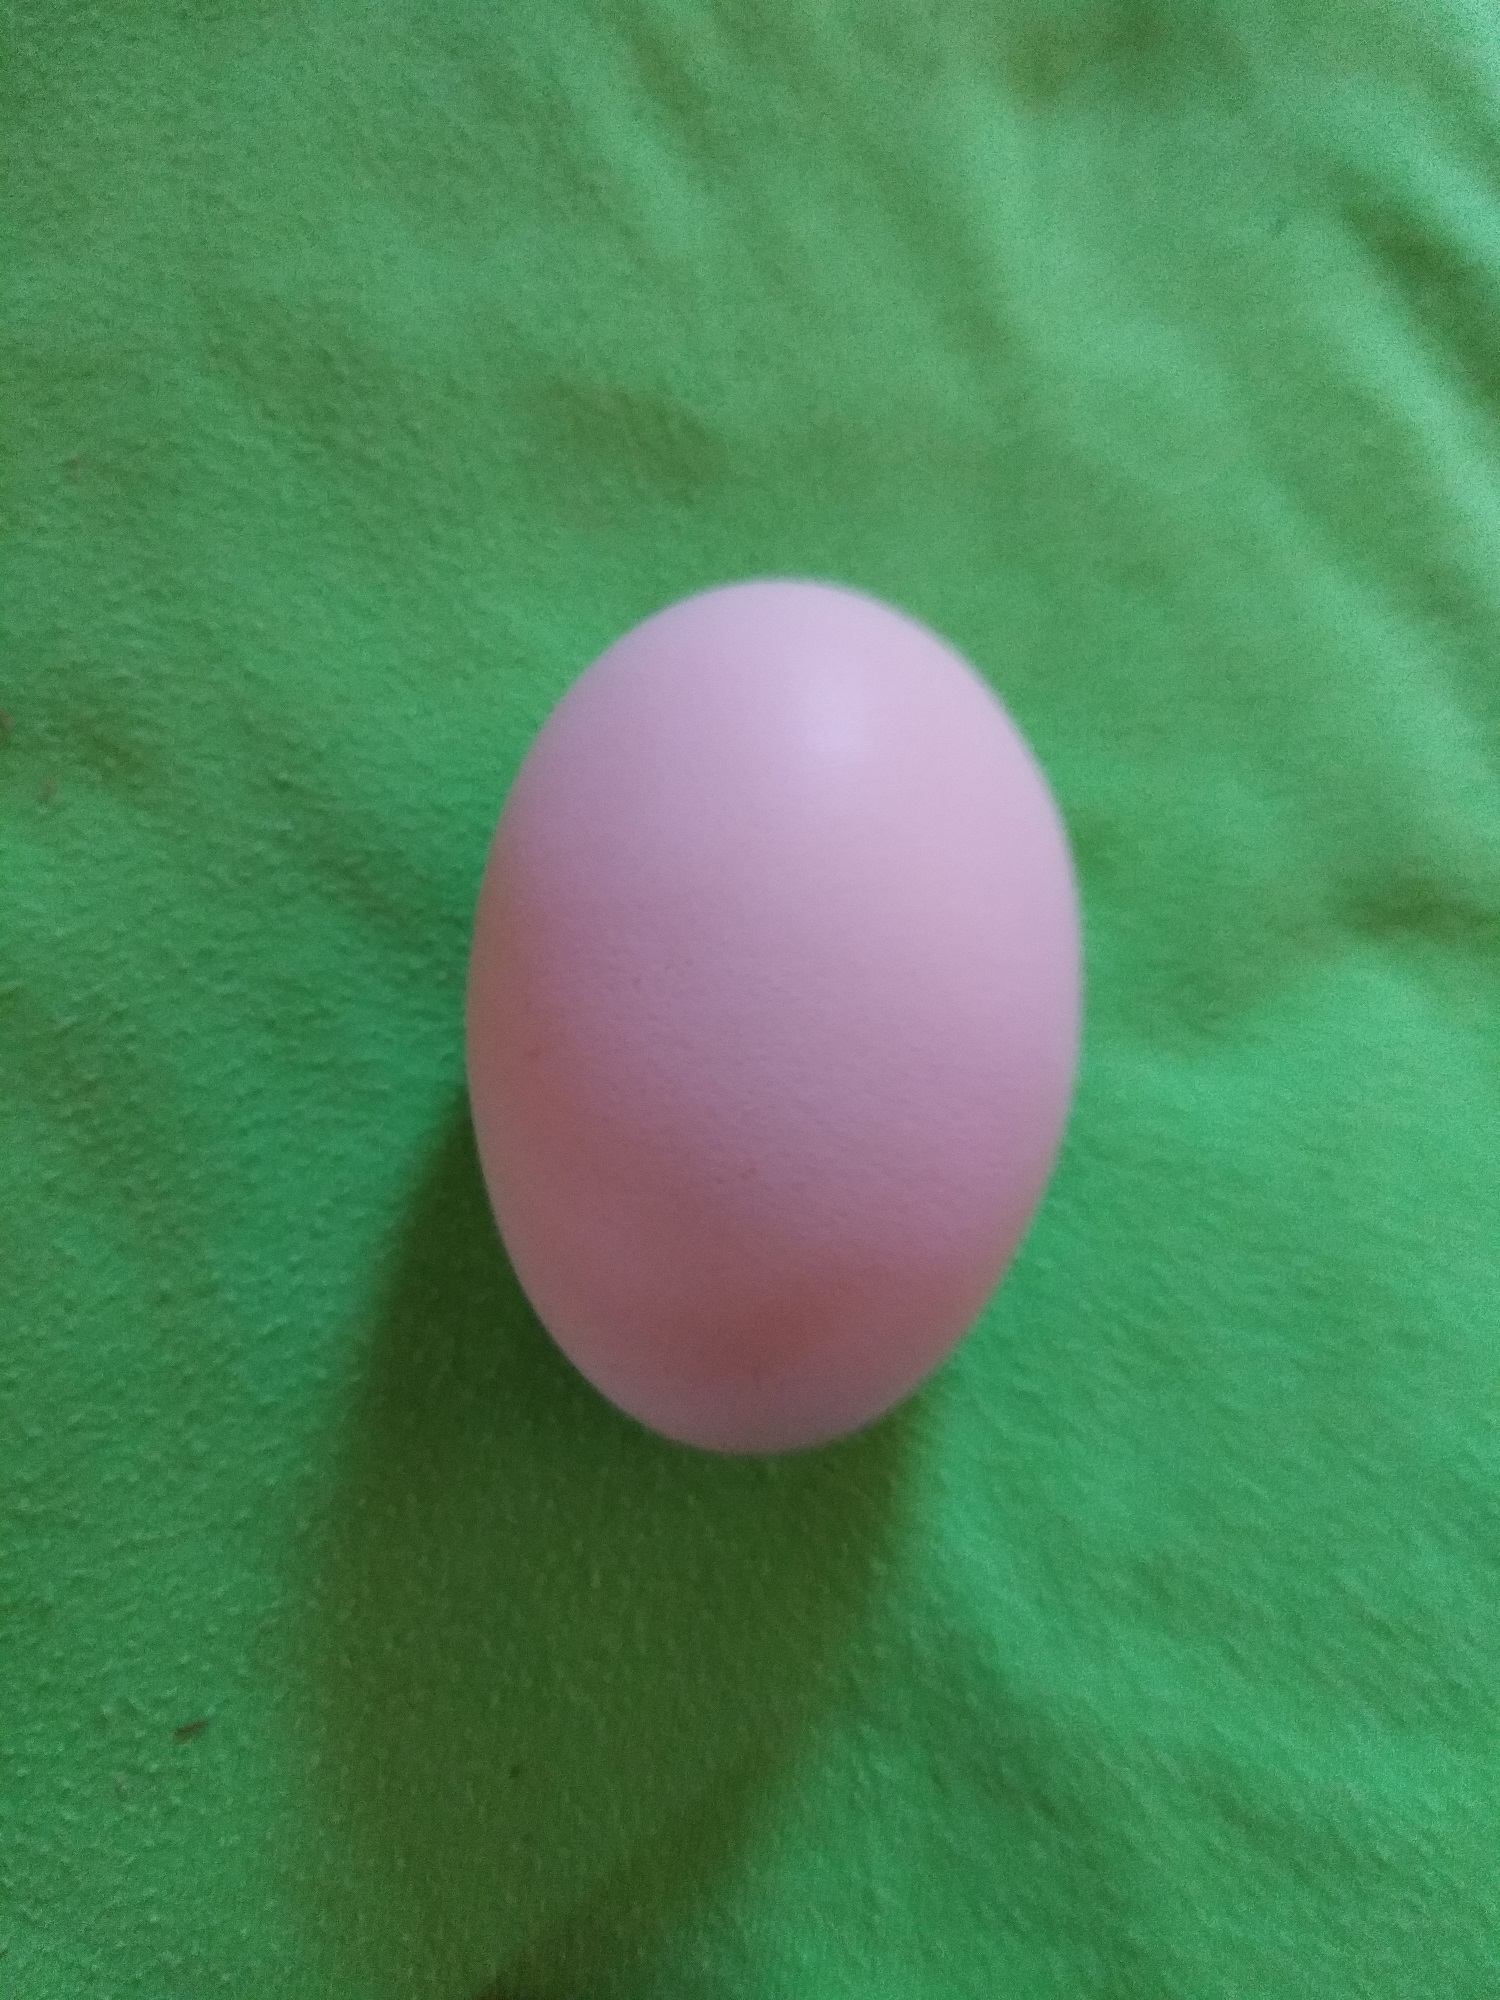Male: (459, 572, 1089, 1461)
